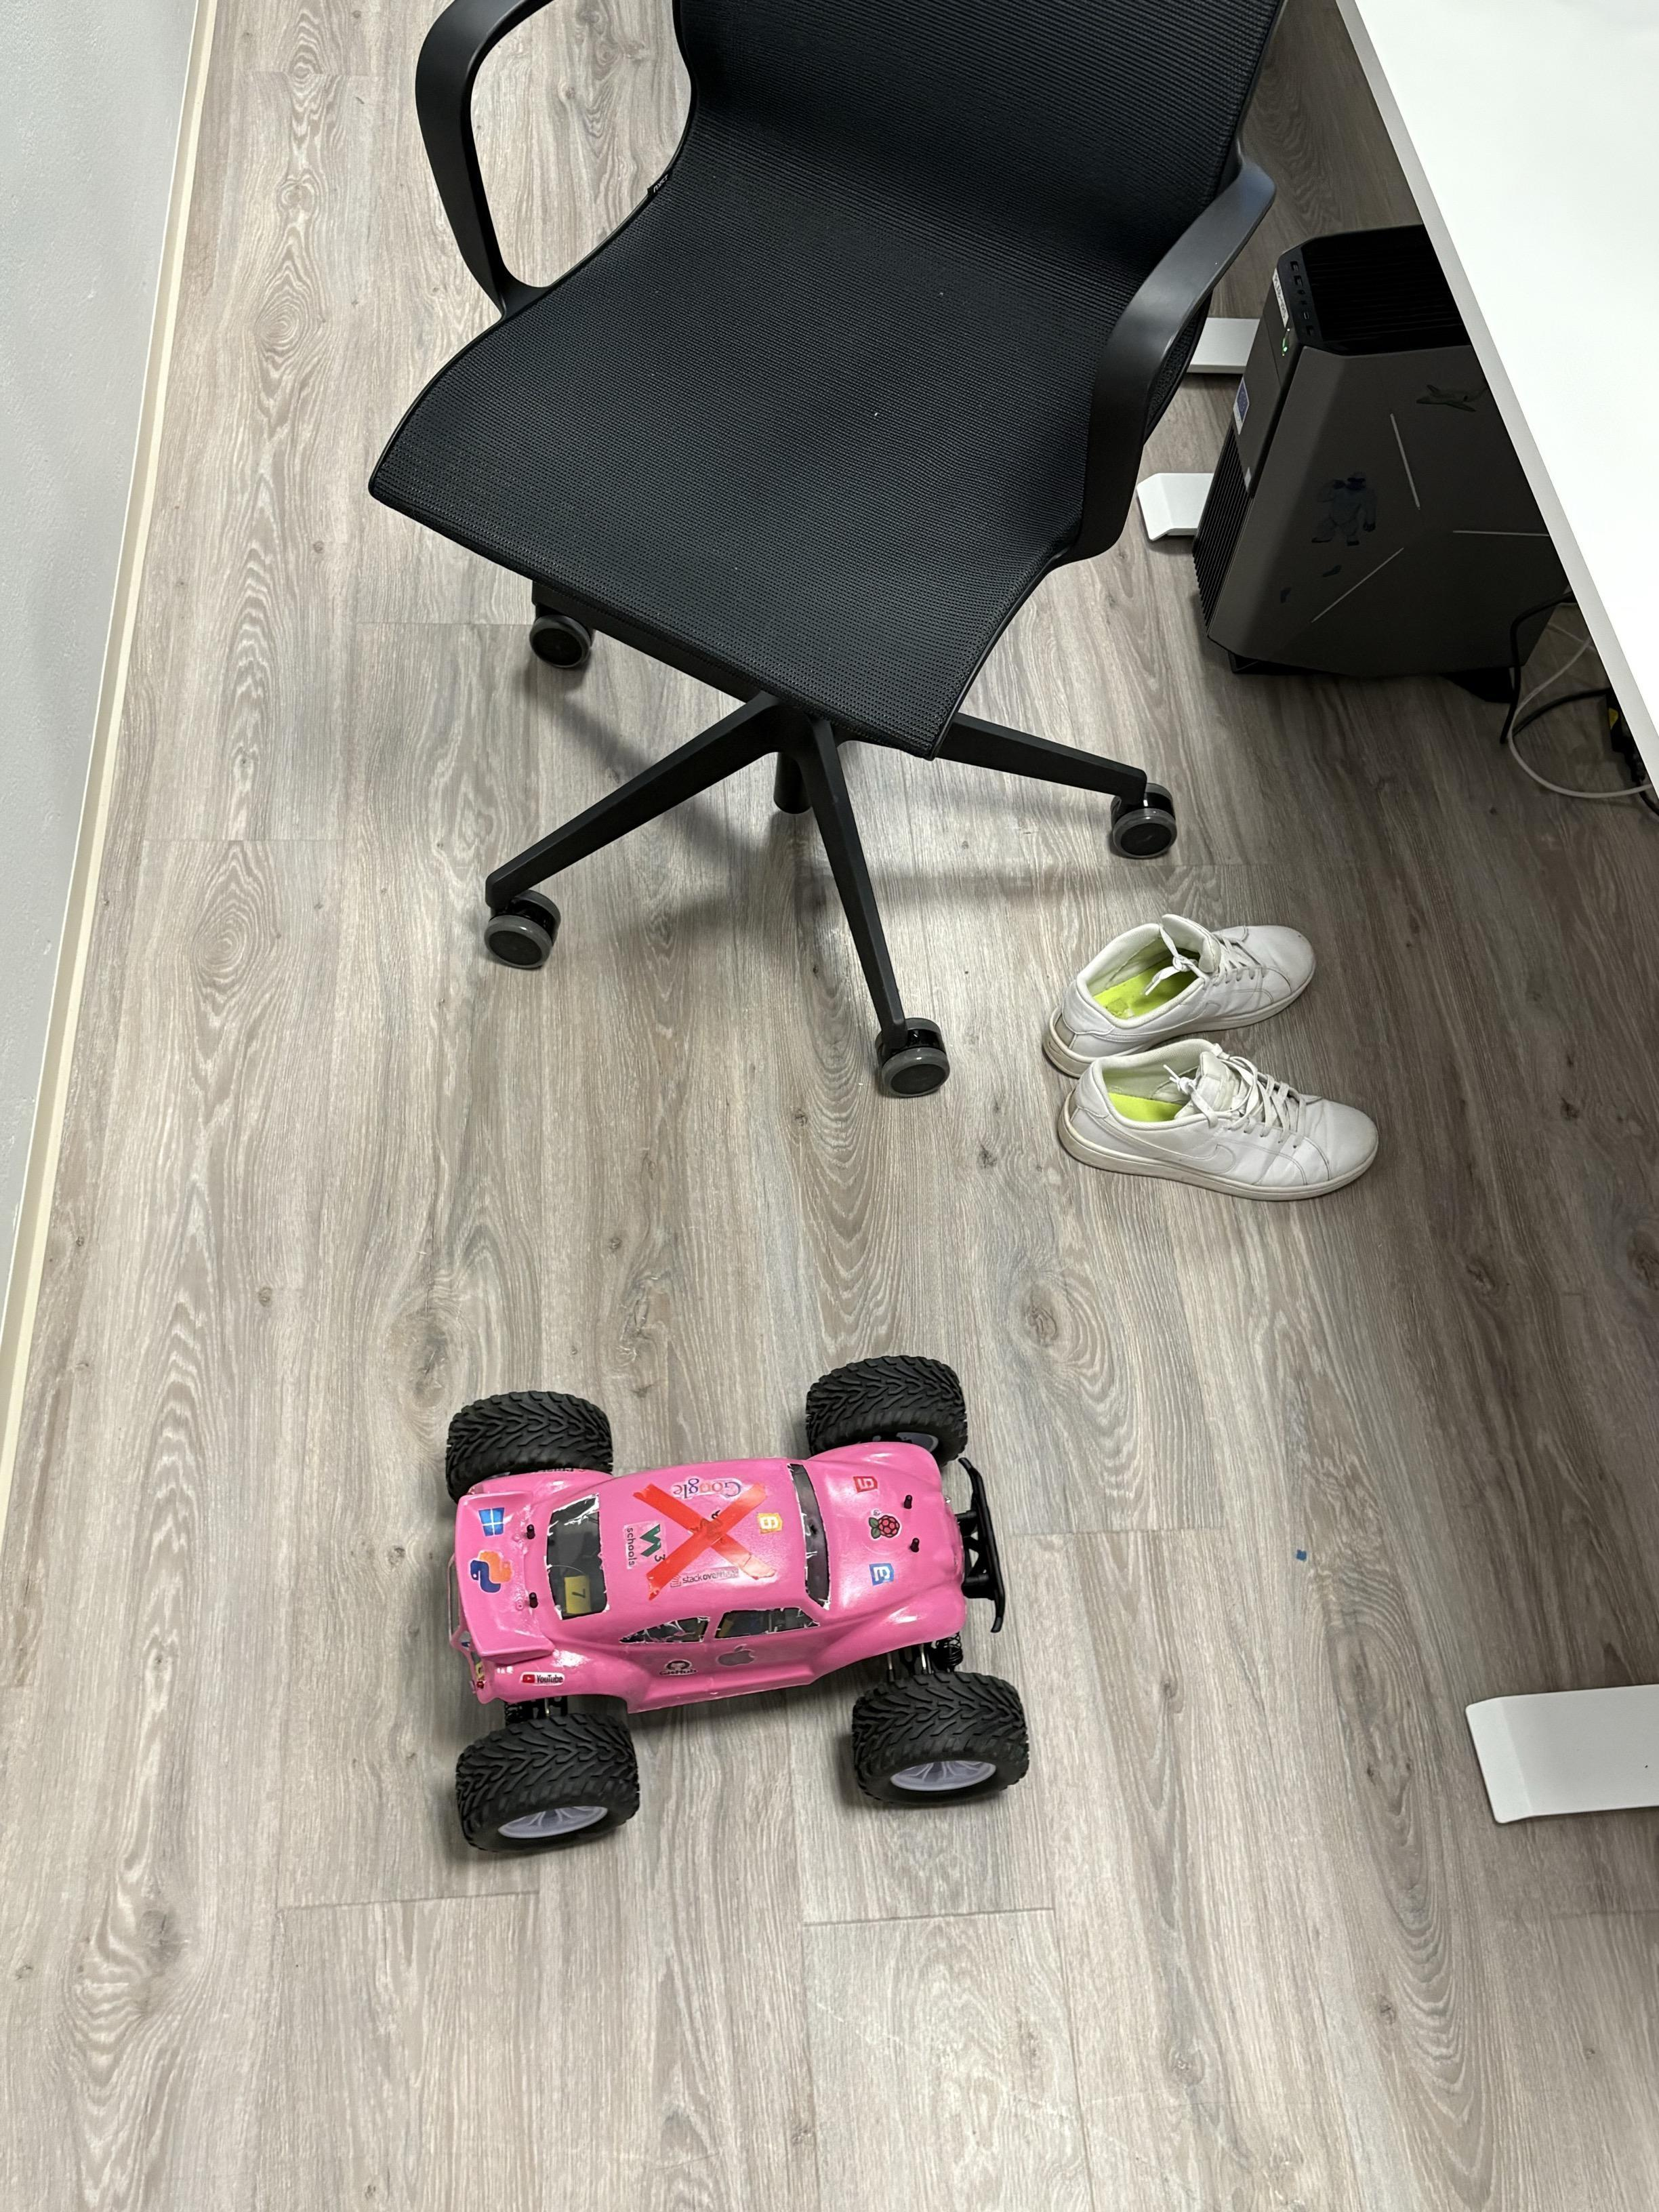Car: (399, 1341, 1080, 1900)
